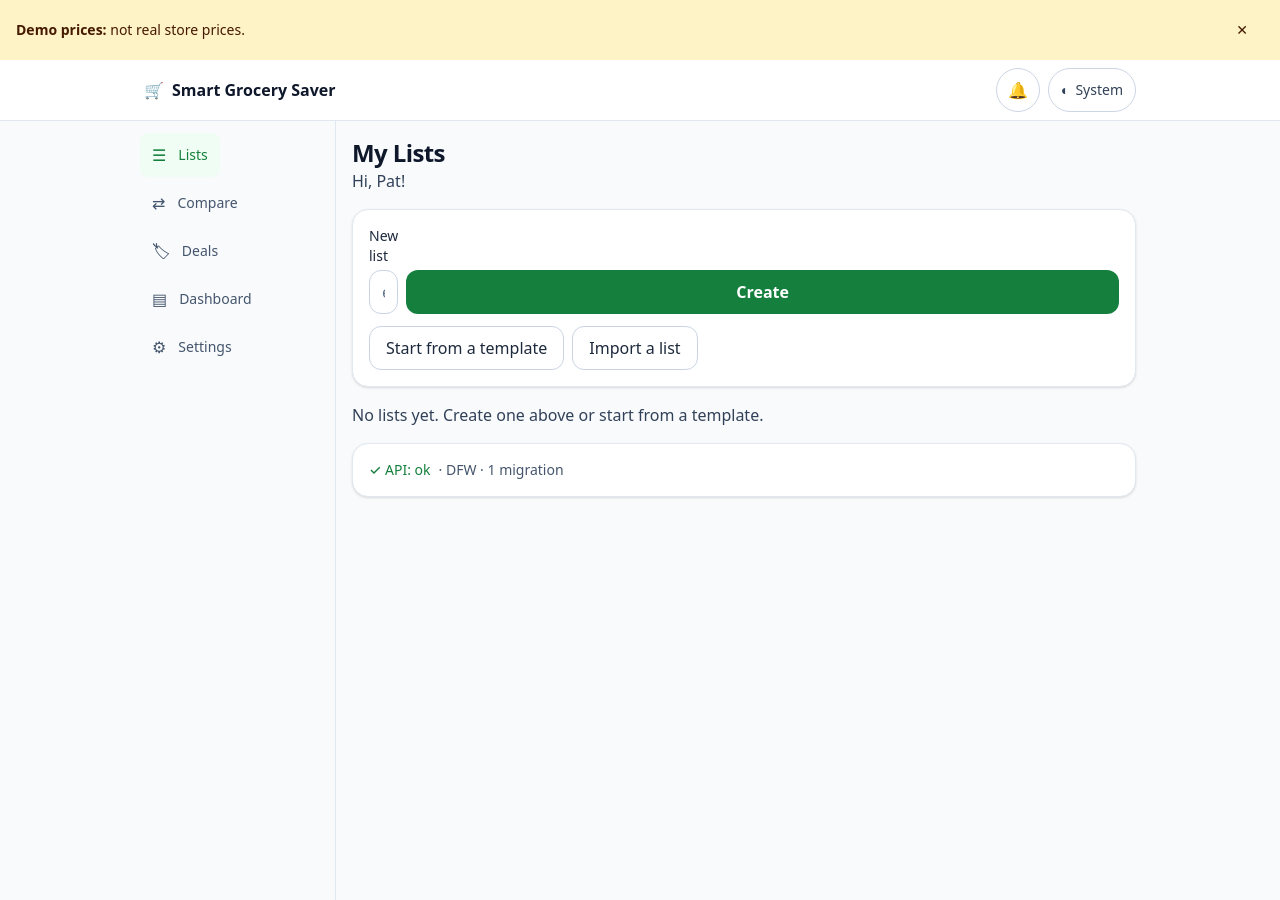
Test: App shell (signed in) › navigates to the dashboard via the primary nav
Click the link "▤ Dashboard".
click(202, 299)  # box [152, 288, 252, 310]
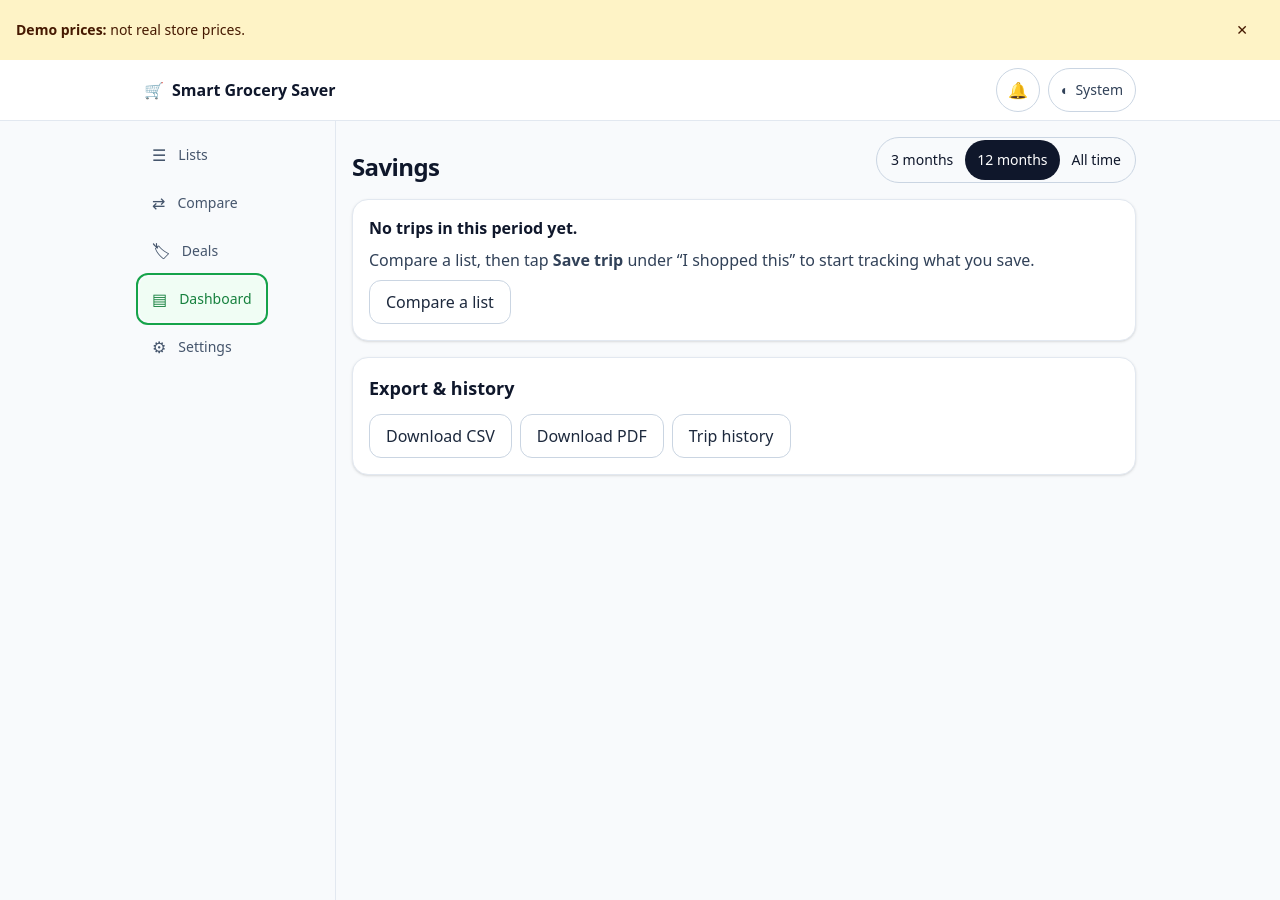
Expected: the heading "Savings" is shown, [352, 151, 439, 183]
Expected: the text "No trips in this period yet." is shown, [369, 217, 577, 239]
